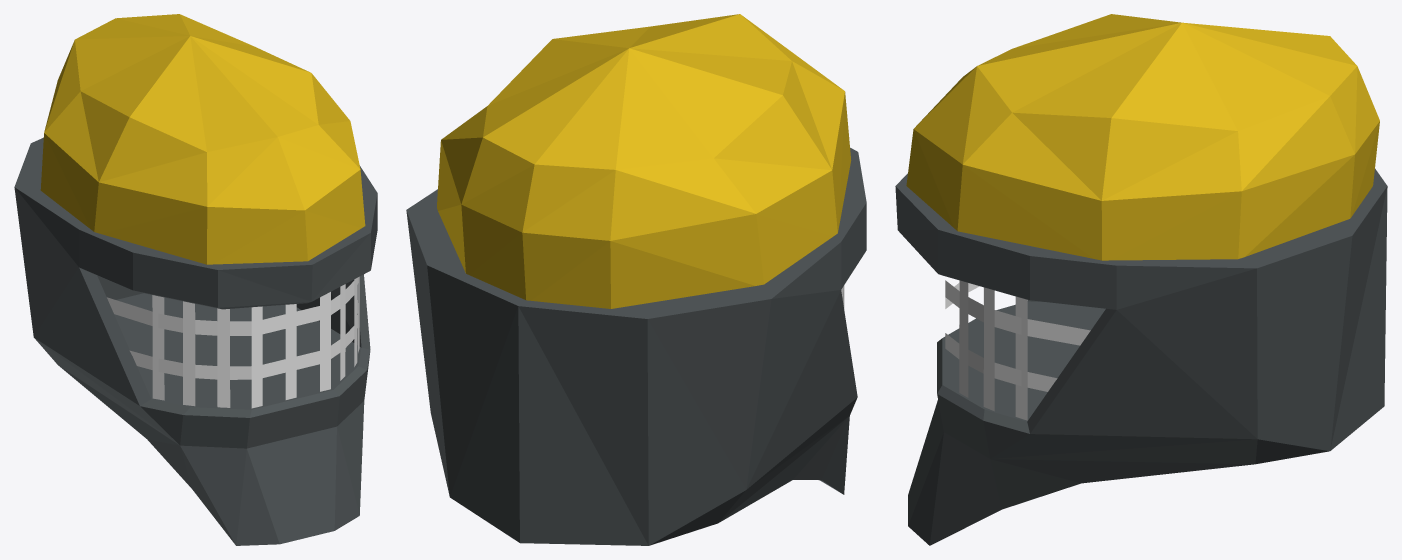
File: Ice_hockey_helmet_yellow.fbx
3 views of the same model, side by side, from view 1: azimuth 30°, elevation 25°; view 2: azimuth 150°, elevation 25°; view 3: azimuth 270°, elevation 25° (orthographic). The views are drawn at different scales.
Parts seen in each view (by area): view 1: Ice_hockey_helmet_yellow; view 2: Ice_hockey_helmet_yellow; view 3: Ice_hockey_helmet_yellow.
Part boxes in pixels (<box>): Ice_hockey_helmet_yellow: <box>14,14,377,545</box>; Ice_hockey_helmet_yellow: <box>406,14,866,545</box>; Ice_hockey_helmet_yellow: <box>895,14,1387,545</box>.
Bounding box in the file's own units: 25.86 × 35.7 × 32.62.
